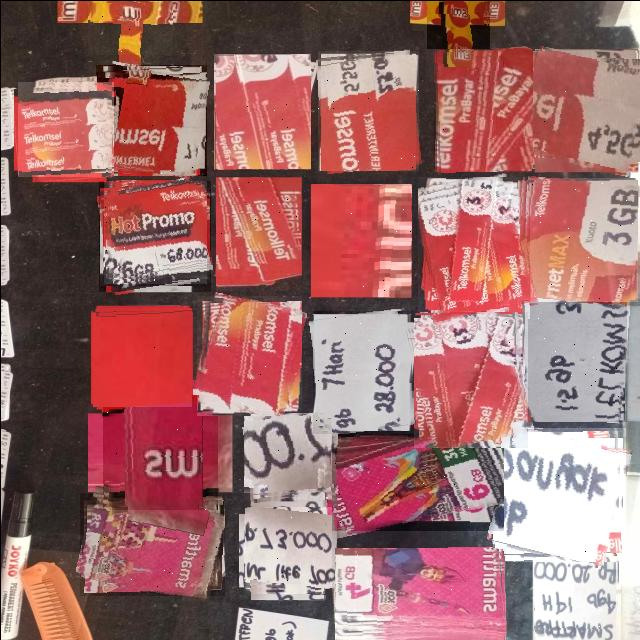Indosat: (87, 0, 172, 54), (426, 0, 489, 48)
Telkomsel: (417, 176, 529, 318), (413, 311, 527, 447), (520, 177, 637, 301), (525, 50, 640, 171), (522, 298, 626, 421), (196, 295, 301, 415), (98, 180, 210, 291), (312, 310, 413, 433), (95, 64, 206, 175), (433, 47, 532, 171), (317, 50, 418, 170), (310, 183, 410, 296), (213, 53, 310, 168), (103, 180, 206, 283), (92, 307, 191, 406), (215, 176, 300, 290), (17, 81, 113, 176)
smartfren: (322, 429, 503, 530), (492, 427, 625, 561), (334, 547, 505, 640), (79, 492, 224, 595), (102, 394, 217, 509), (243, 506, 331, 593), (243, 413, 331, 499), (533, 557, 620, 640)
